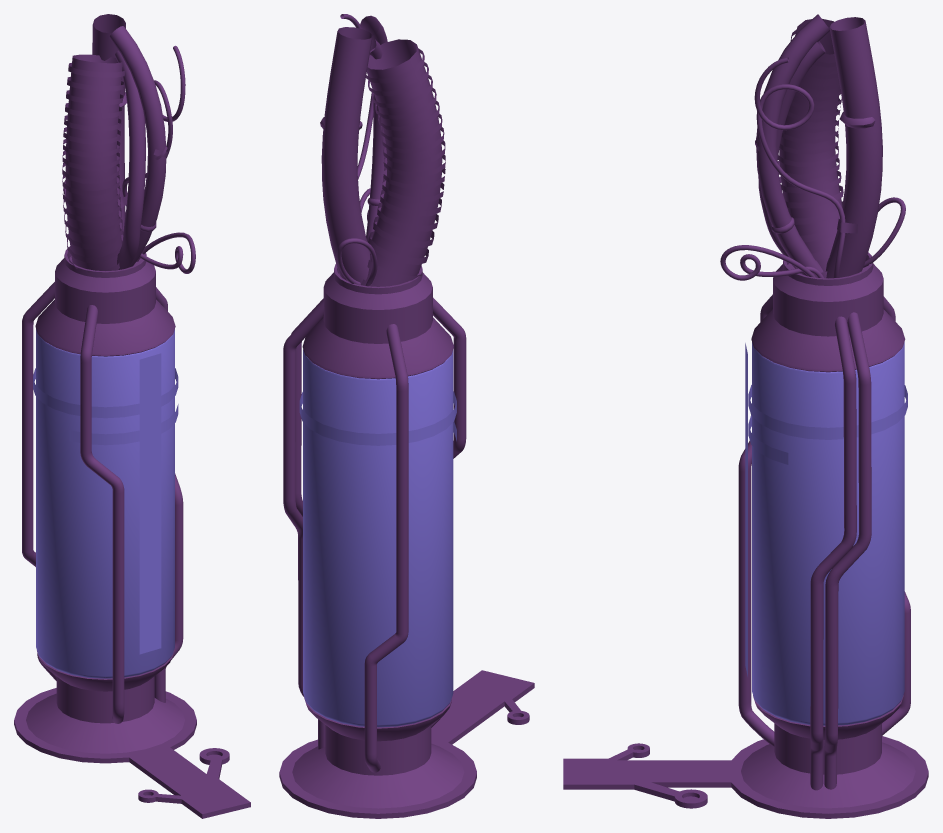
The model's file is SM_incubator_Laetitia.fbx.
The picture shows the model from 3 angles, left to right: view 1: azimuth 30°, elevation 25°; view 2: azimuth 150°, elevation 25°; view 3: azimuth 270°, elevation 25°; orthographic projection. The views are drawn at different scales.
Visible parts, largest first — view 1: glass_tube, tubz_top, tube_bottom, ground, pipe04, plane01, bar04, pipe04_01, pipe02, bar03, pipe03, bar01 (+5 smaller); view 2: glass_tube, tubz_top, tube_bottom, pipe04, pipe01, ground, pipe04_01, bar03, bar02, bar04, plane02, pipe02 (+3 smaller); view 3: glass_tube, tubz_top, tube_bottom, ground, pipe01, bar02, bar01, pipe04, pipe02, pipe04_01, bar04, cable01 (+5 smaller).
Part boxes in pixels (bbox=[...]): glass_tube: bbox=[36, 329, 174, 678]; tubz_top: bbox=[35, 246, 175, 356]; tube_bottom: bbox=[26, 650, 184, 753]; ground: bbox=[14, 688, 250, 818]; pipe04: bbox=[65, 54, 122, 270]; plane01: bbox=[139, 353, 161, 654]; bar04: bbox=[80, 305, 124, 723]; pipe04_01: bbox=[62, 63, 125, 271]; pipe02: bbox=[109, 26, 166, 267]; bar03: bbox=[22, 282, 56, 680]; pipe03: bbox=[115, 50, 145, 269]; bar01: bbox=[154, 287, 183, 702]; glass_tube: bbox=[303, 349, 453, 727]; tubz_top: bbox=[302, 264, 453, 379]; tube_bottom: bbox=[292, 697, 464, 808]; pipe04: bbox=[366, 39, 442, 286]; pipe01: bbox=[321, 27, 372, 284]; ground: bbox=[279, 670, 534, 818]; pipe04_01: bbox=[361, 48, 445, 286]; bar03: bbox=[364, 324, 408, 772]; bar02: bbox=[283, 299, 325, 749]; bar04: bbox=[431, 297, 466, 727]; plane02: bbox=[299, 391, 456, 445]; pipe02: bbox=[360, 15, 387, 241]; glass_tube: bbox=[752, 342, 904, 725]; tubz_top: bbox=[751, 252, 905, 372]; tube_bottom: bbox=[741, 695, 915, 808]; ground: bbox=[563, 736, 928, 818]; pipe01: bbox=[825, 17, 882, 278]; bar02: bbox=[824, 312, 871, 789]; bar01: bbox=[810, 316, 856, 790]; pipe04: bbox=[779, 19, 842, 271]; pipe02: bbox=[756, 14, 829, 277]; pipe04_01: bbox=[777, 29, 843, 278]; bar04: bbox=[738, 294, 774, 746]; cable01: bbox=[754, 57, 845, 278].
Size of the model in its own units: 1.54 by 6.48 by 2.8.
